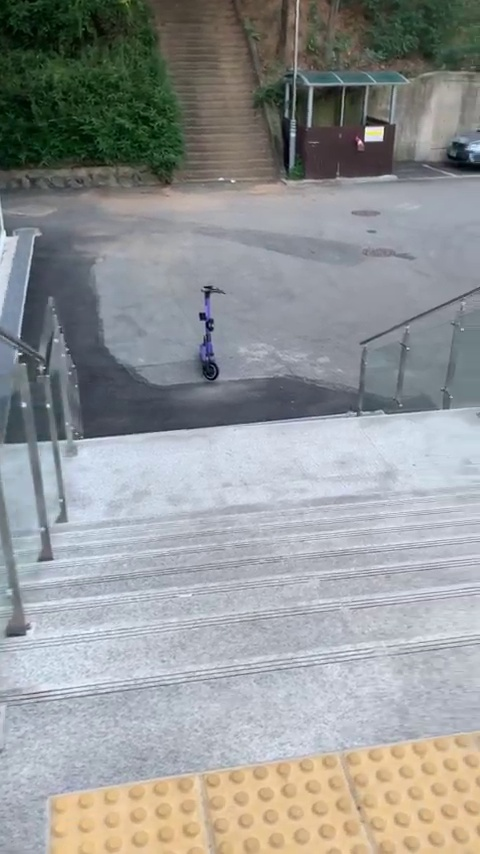beam: (185, 281, 230, 382)
